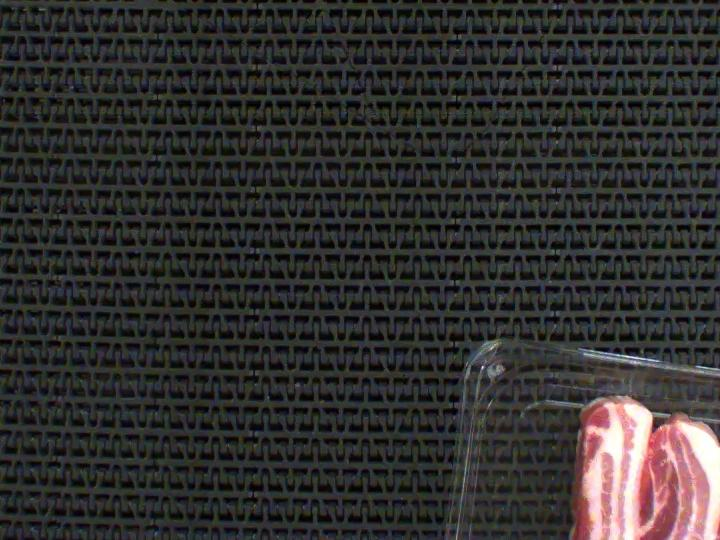packaging-error: (612, 361, 639, 401)
